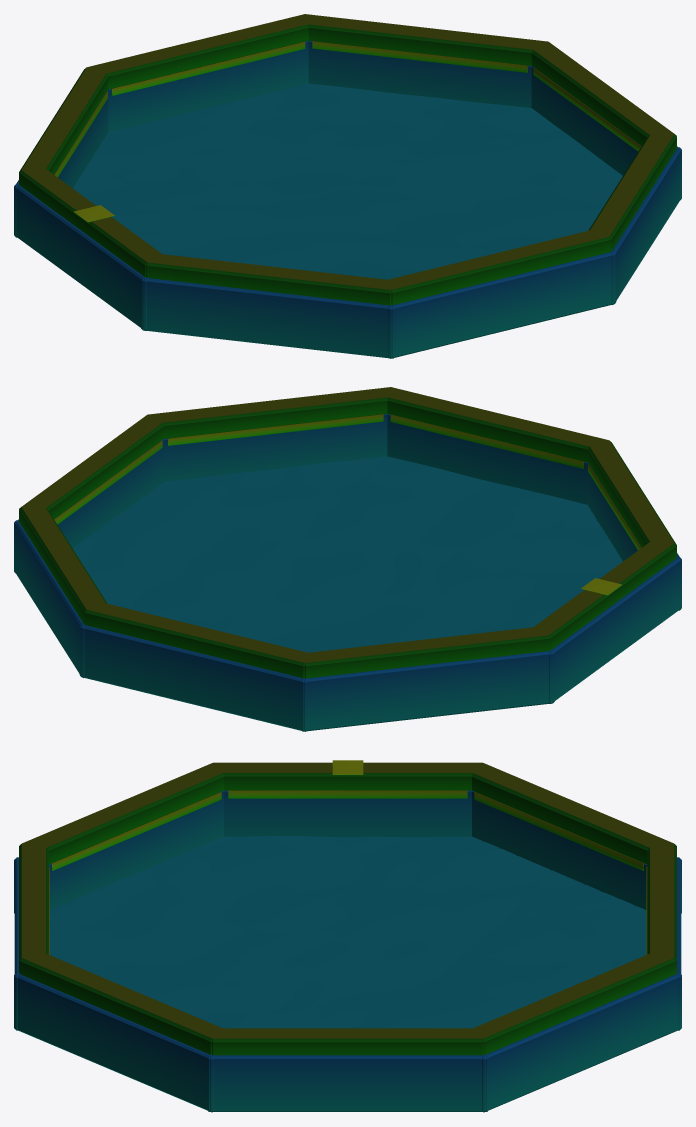
File: shrine_inner_pool.glb
3 views of the same model, one above another, from view 1: azimuth 30°, elevation 25°; view 2: azimuth 150°, elevation 25°; view 3: azimuth 270°, elevation 25° (orthographic). The views are drawn at different scales.
Visible parts, largest first — view 1: shrine_inner_pool; view 2: shrine_inner_pool; view 3: shrine_inner_pool.
Boxes of the visible parts, x1,y1,x2,y2 form: shrine_inner_pool: (14, 14, 681, 358); shrine_inner_pool: (14, 387, 681, 731); shrine_inner_pool: (14, 760, 681, 1112).
Size of what is drawn, in the model's own units: 7.81 by 0.9262 by 7.81.
